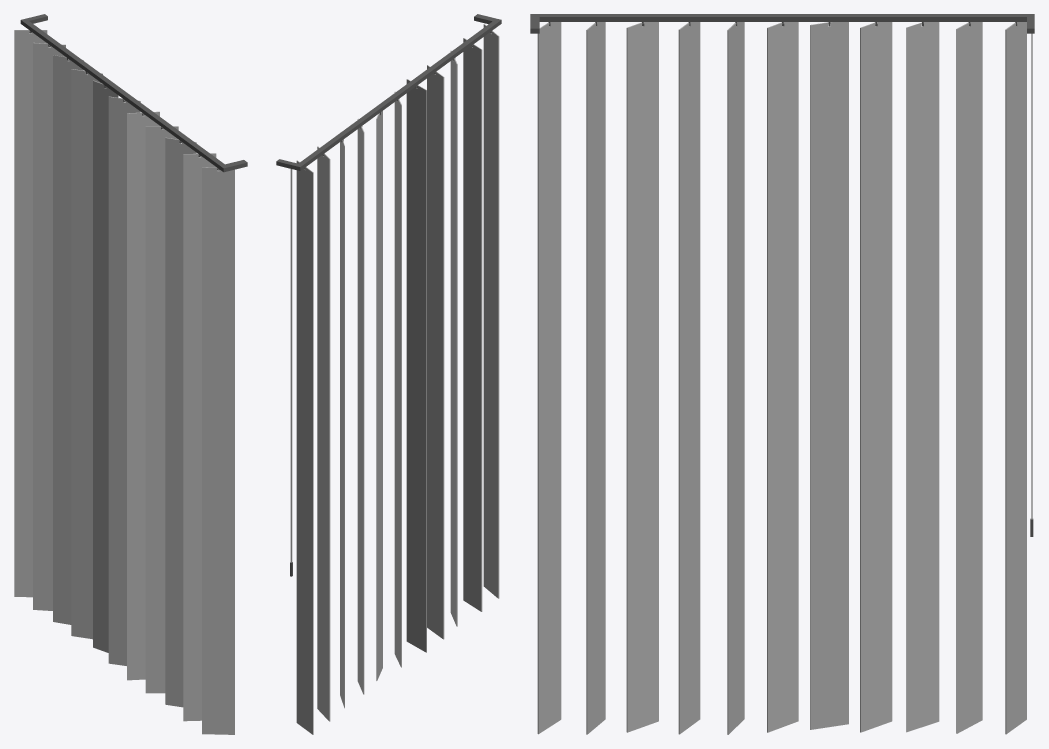
The model's file is Curtain08.fbx.
The picture shows the model from 3 angles, left to right: view 1: azimuth 30°, elevation 25°; view 2: azimuth 150°, elevation 25°; view 3: azimuth 270°, elevation 25°; orthographic projection. The views are drawn at different scales.
Visible parts, largest first — view 1: Curtain08; view 2: Curtain08; view 3: Curtain08.
Part boxes in pixels (<box>): Curtain08: <box>14,14,247,734</box>; Curtain08: <box>276,14,501,734</box>; Curtain08: <box>530,14,1034,734</box>.
Bounding box in the file's own units: 0.1648 × 1.66 × 2.58.
